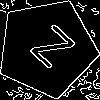Z: (21, 23, 76, 78)
